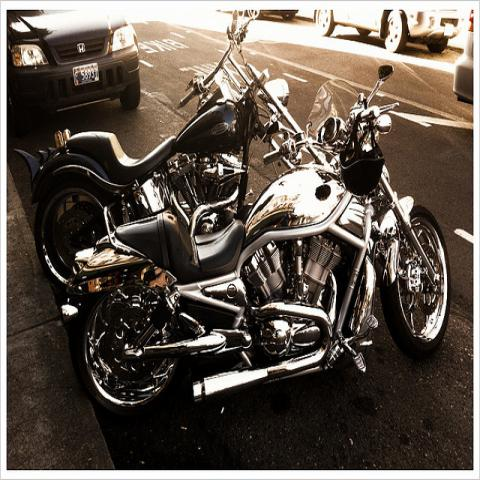car: (9, 1, 142, 139), (311, 0, 463, 54), (211, 0, 303, 21)
motorcycle: (61, 65, 452, 419), (17, 11, 306, 286)
